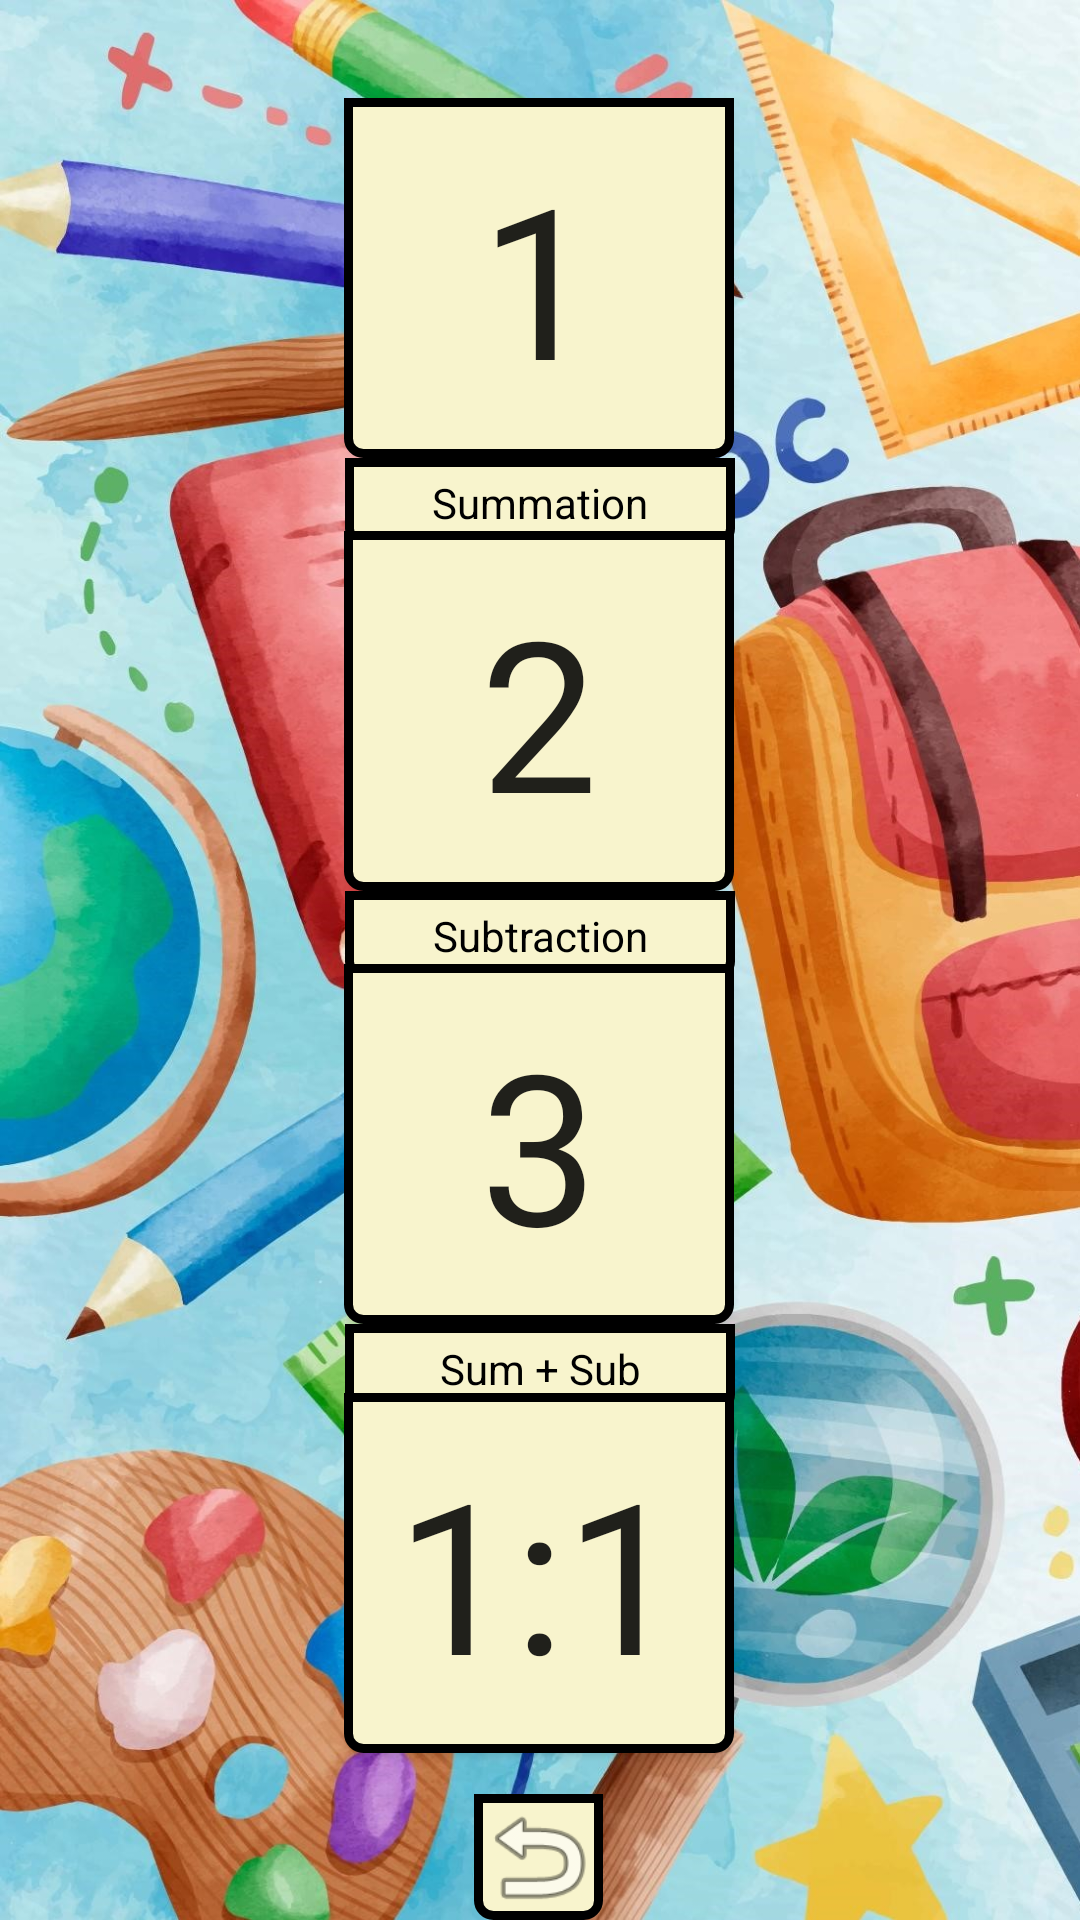

Where to tap for icons on this 1080px×1920px app screen, as [x,y]:
revert: [538,1857]
